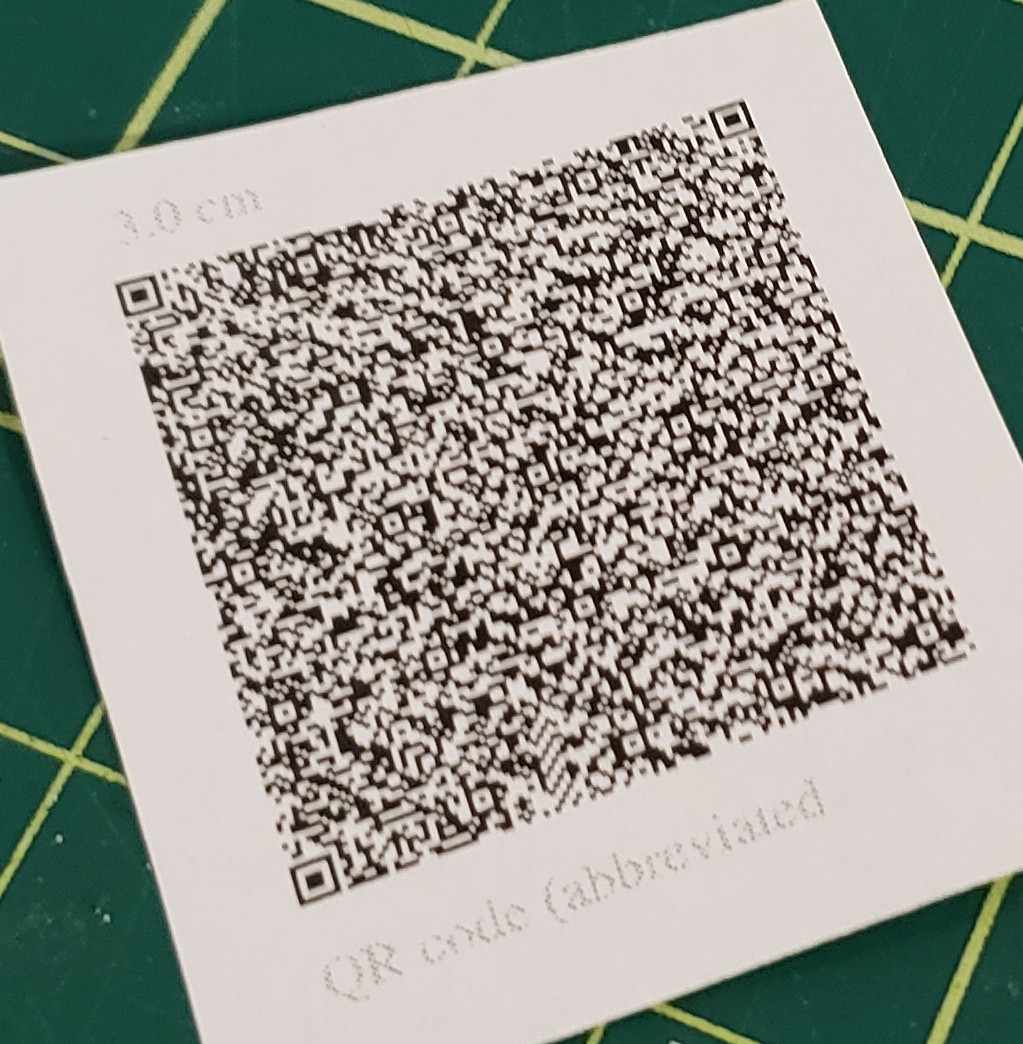QR_CODE: (89, 54, 996, 926)
